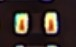COMP: (9, 9, 63, 37)
GAP: (13, 22, 57, 47)
